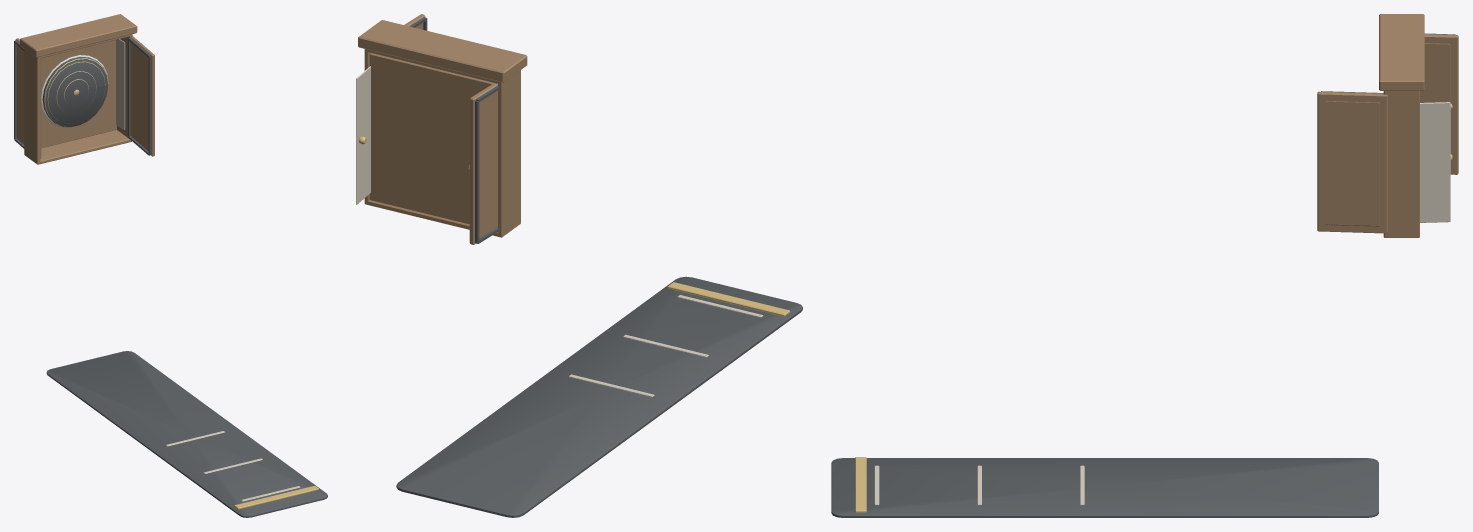
File: dartboard.glb
3 views of the same model, side by side, from view 1: azimuth 30°, elevation 25°; view 2: azimuth 150°, elevation 25°; view 3: azimuth 270°, elevation 25° (orthographic). The views are drawn at different scales.
Parts seen in each view (by area): view 1: dartboard-cabinet-open, cabinet-door-right (×3), cabinet-door-left (×2); view 2: dartboard-cabinet-open, cabinet-door-left (×2), cabinet-door-right; view 3: dartboard-cabinet-open, cabinet-door-right (×2), cabinet-door-left.
Boxes of the visible parts, x1,y1,x2,y2 form: dartboard-cabinet-open: [20, 14, 327, 517]; cabinet-door-right (×3): [116, 36, 154, 156]; cabinet-door-left (×2): [14, 38, 41, 158]; dartboard-cabinet-open: [358, 20, 802, 517]; cabinet-door-left (×2): [469, 83, 499, 244]; cabinet-door-right: [356, 66, 370, 204]; dartboard-cabinet-open: [831, 14, 1424, 517]; cabinet-door-right (×2): [1317, 91, 1450, 233]; cabinet-door-left: [1420, 34, 1458, 174].
Size of the model in its own units: 0.7 by 2.14 by 2.75.
